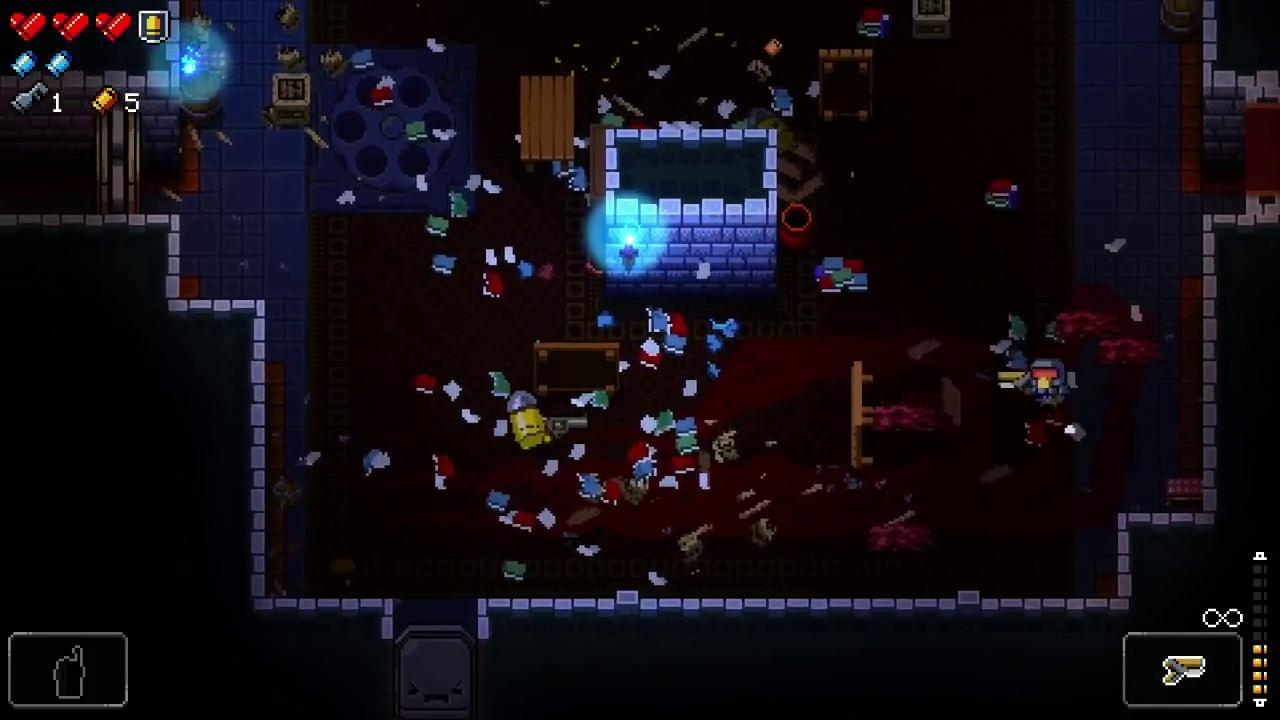bullet_kin: (506, 389, 552, 451)
locked_door: (396, 625, 477, 719), (96, 103, 141, 214)
player: (1029, 357, 1067, 408)
table: (519, 75, 574, 172), (534, 343, 621, 395), (820, 49, 874, 123), (851, 360, 875, 467)
teleporter: (307, 47, 480, 220)
wall: (605, 129, 778, 303)
